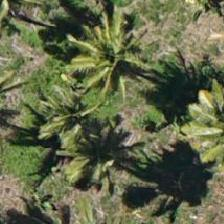coconut_tree: (61, 15, 151, 105), (52, 114, 142, 204)
